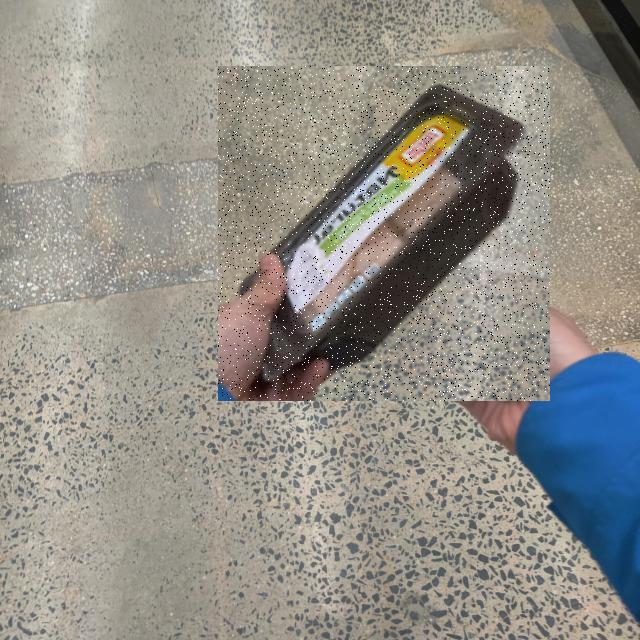Meat: (219, 66, 551, 401)
